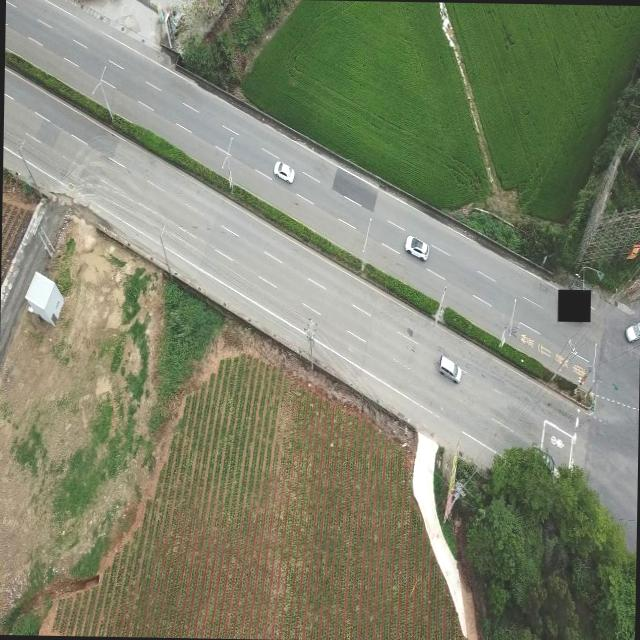car: (437, 354, 460, 382), (404, 234, 428, 258), (272, 160, 294, 182), (626, 318, 640, 342)
